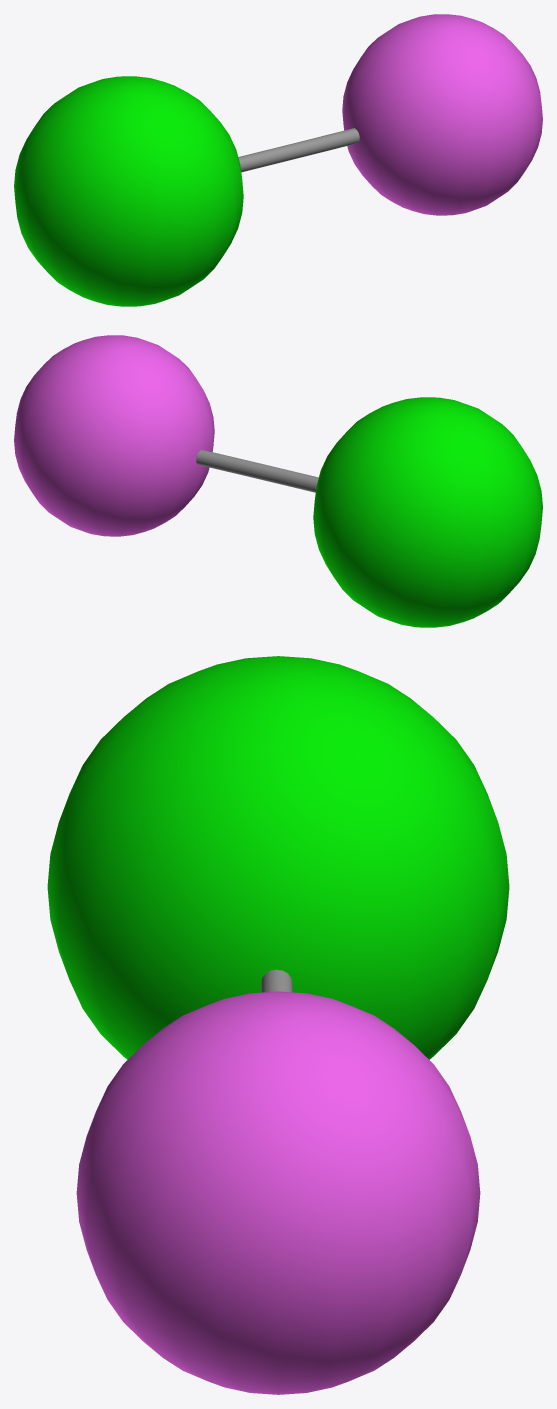
Rendered from LiCl.fbx.
3 views of the same model, one above another, from view 1: azimuth 30°, elevation 25°; view 2: azimuth 150°, elevation 25°; view 3: azimuth 270°, elevation 25° (orthographic). The views are drawn at different scales.
Parts seen in each view (by area): view 1: LiCl; view 2: LiCl; view 3: LiCl.
Boxes of the visible parts, left/top/right/bottom form: LiCl: left=14, top=14, right=542, bottom=306; LiCl: left=14, top=335, right=542, bottom=627; LiCl: left=47, top=656, right=509, bottom=1394.
Bounding box in the file's own units: 6.6 × 2.63 × 2.63.
